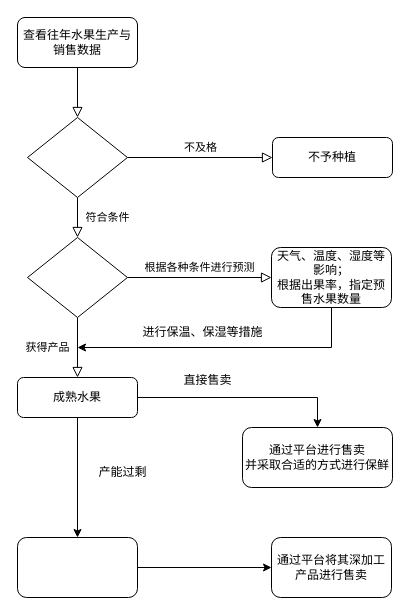
This 410x615 diagram has some shape labels left out. The shapes that lost their labels are listed below. From the top down, each one's box as (x1, y1, x2, y2) in pixels, then its label:
(26, 116, 128, 198): 筛选产品种类
(26, 236, 128, 318): 进行种植
(16, 536, 138, 598): 进行深加工 成为罐头、果汁等保质期较长的产品
